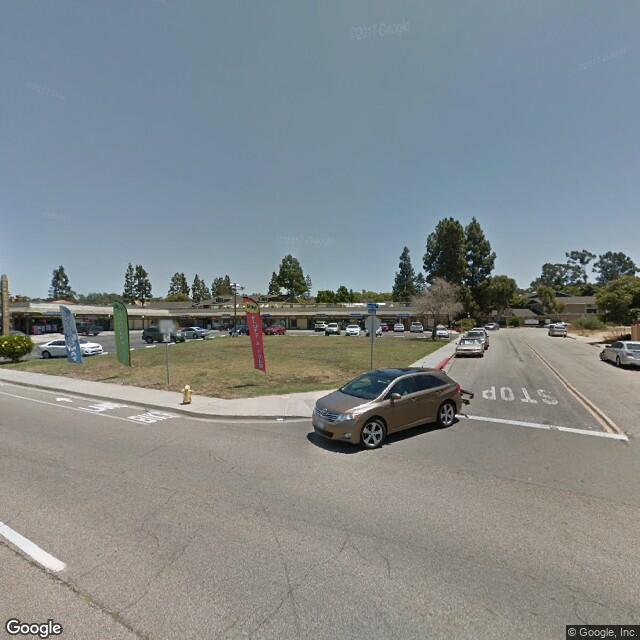litter: (274, 416, 285, 423)
